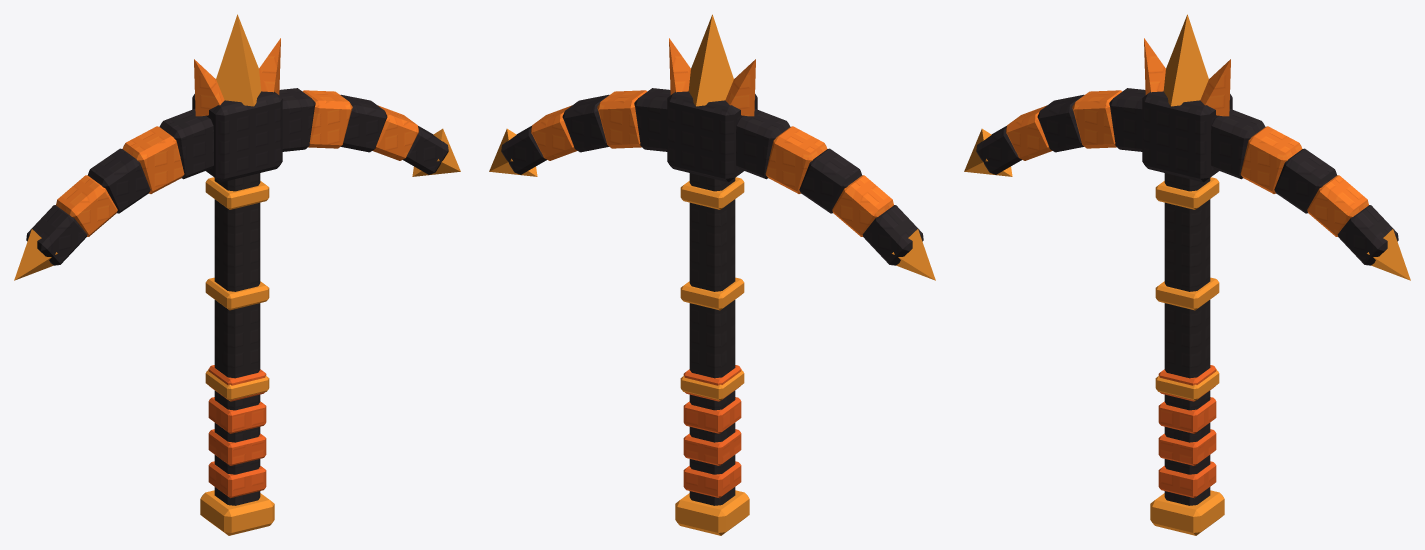
The model's file is outil_20_pioche_de_lave.glb.
3 renders of one model, left to right at view 1: azimuth 30°, elevation 25°; view 2: azimuth 150°, elevation 25°; view 3: azimuth 330°, elevation 25°, orthographic.
Visible parts, largest first — view 1: outil_20_pioche_de_lave; view 2: outil_20_pioche_de_lave; view 3: outil_20_pioche_de_lave.
Boxes of the visible parts, box(x1,y1,x2,y2) form: outil_20_pioche_de_lave: box(14, 14, 460, 535); outil_20_pioche_de_lave: box(489, 14, 935, 535); outil_20_pioche_de_lave: box(964, 14, 1410, 535).
Size of the model in its own units: 4.66 by 5.06 by 0.6.
Materials: 1 (1 with a texture image).
